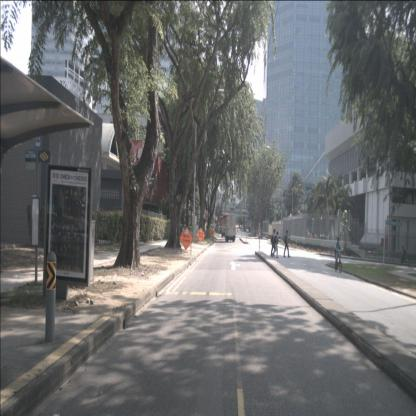human-pedestrian-adult: (272, 231, 281, 258), (284, 230, 290, 257), (271, 229, 276, 256), (401, 246, 407, 265)
vehicle-bicycle: (334, 237, 343, 273)
vehicle-bus-rigid: (221, 215, 230, 237), (219, 216, 226, 233)
vehicle-truck: (225, 216, 236, 242)
